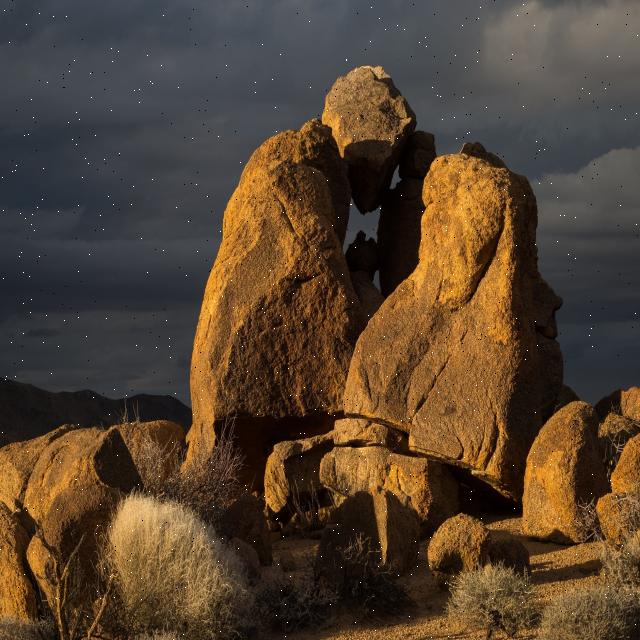Igneous: (188, 67, 604, 563)
